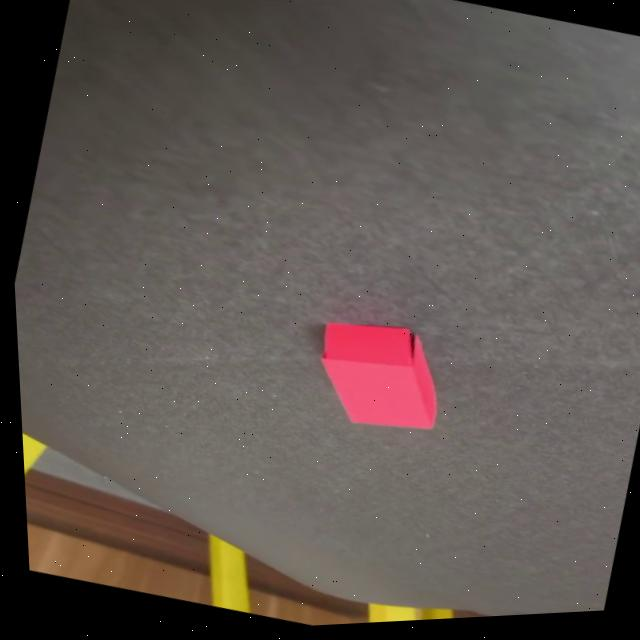red block: (300, 306, 455, 445)
